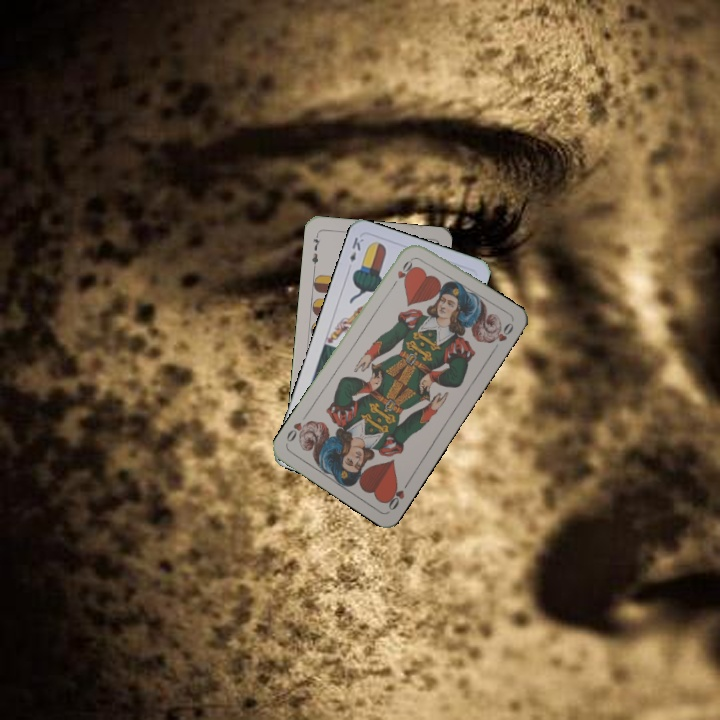E7: (308, 230, 323, 271)
EK: (346, 233, 366, 265)
HO: (382, 477, 412, 513), (388, 254, 417, 290)
